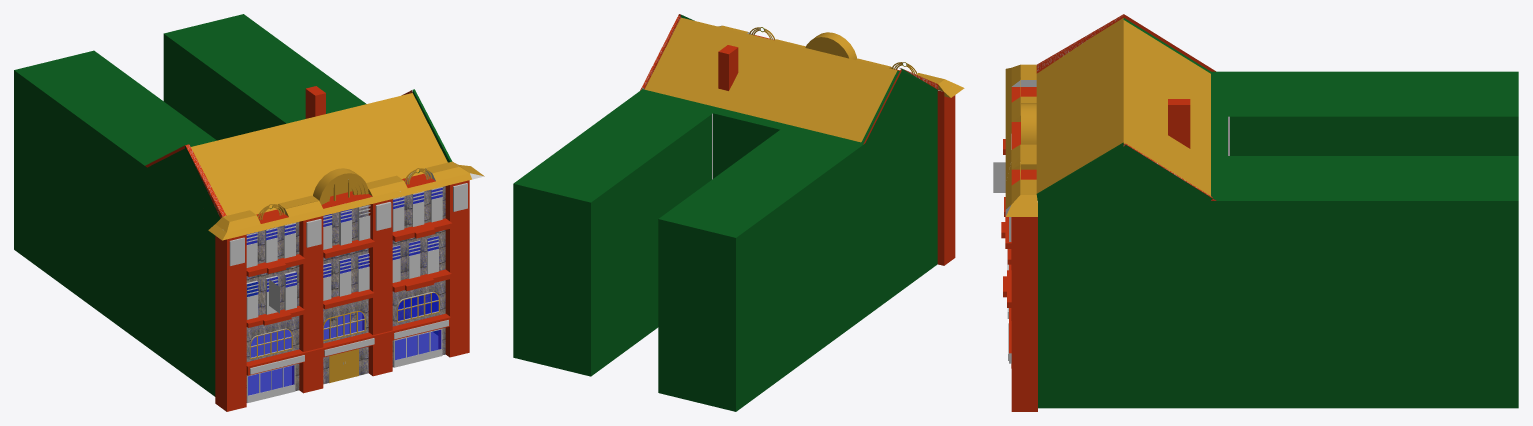
Rendered from hotel.obj.
3 views of the same model, side by side, from view 1: azimuth 30°, elevation 25°; view 2: azimuth 150°, elevation 25°; view 3: azimuth 270°, elevation 25° (orthographic). The views are drawn at different scales.
Parts seen in each view (by area): view 1: SketchUp.003, SketchUp.004, SketchUp.076, SketchUp.270, SketchUp.002, SketchUp.047, SketchUp.006, SketchUp.042, SketchUp.038, SketchUp.181, SketchUp.040, SketchUp (+3 smaller); view 2: SketchUp.003, SketchUp.057, SketchUp.004, SketchUp, SketchUp.005, SketchUp.038; view 3: SketchUp.003, SketchUp.076, SketchUp.057, SketchUp.004, SketchUp.042, SketchUp, SketchUp.006, SketchUp.043, SketchUp.047, SketchUp.038, SketchUp.056.
Part boxes in pixels (bbox=[...]): SketchUp.003: bbox=[14, 14, 452, 396]; SketchUp.004: bbox=[215, 180, 469, 411]; SketchUp.076: bbox=[191, 93, 447, 215]; SketchUp.270: bbox=[246, 186, 445, 402]; SketchUp.002: bbox=[247, 90, 442, 403]; SketchUp.047: bbox=[247, 191, 422, 227]; SketchUp.006: bbox=[313, 168, 372, 205]; SketchUp.042: bbox=[393, 161, 484, 191]; SketchUp.038: bbox=[208, 210, 275, 240]; SketchUp.181: bbox=[329, 349, 358, 382]; SketchUp.040: bbox=[278, 195, 322, 217]; SketchUp: bbox=[305, 86, 325, 118]; SketchUp.003: bbox=[513, 14, 937, 411]; SketchUp.057: bbox=[644, 17, 897, 142]; SketchUp.004: bbox=[937, 90, 955, 265]; SketchUp: bbox=[718, 45, 738, 90]; SketchUp.005: bbox=[805, 37, 848, 58]; SketchUp.038: bbox=[916, 73, 964, 97]; SketchUp.003: bbox=[1036, 18, 1518, 408]; SketchUp.076: bbox=[1036, 18, 1123, 193]; SketchUp.057: bbox=[1123, 20, 1210, 195]; SketchUp.004: bbox=[1001, 139, 1037, 411]; SketchUp.042: bbox=[1005, 163, 1037, 216]; SketchUp: bbox=[1168, 99, 1190, 148]; SketchUp.006: bbox=[1012, 103, 1036, 144]; SketchUp.043: bbox=[1011, 144, 1036, 169]; SketchUp.047: bbox=[1005, 79, 1011, 181]; SketchUp.038: bbox=[1005, 64, 1036, 98]; SketchUp.056: bbox=[1036, 14, 1123, 73].
Bounding box in the file's own units: 3.11 × 2.6 × 4.67.
7 materials, 1 textured.
